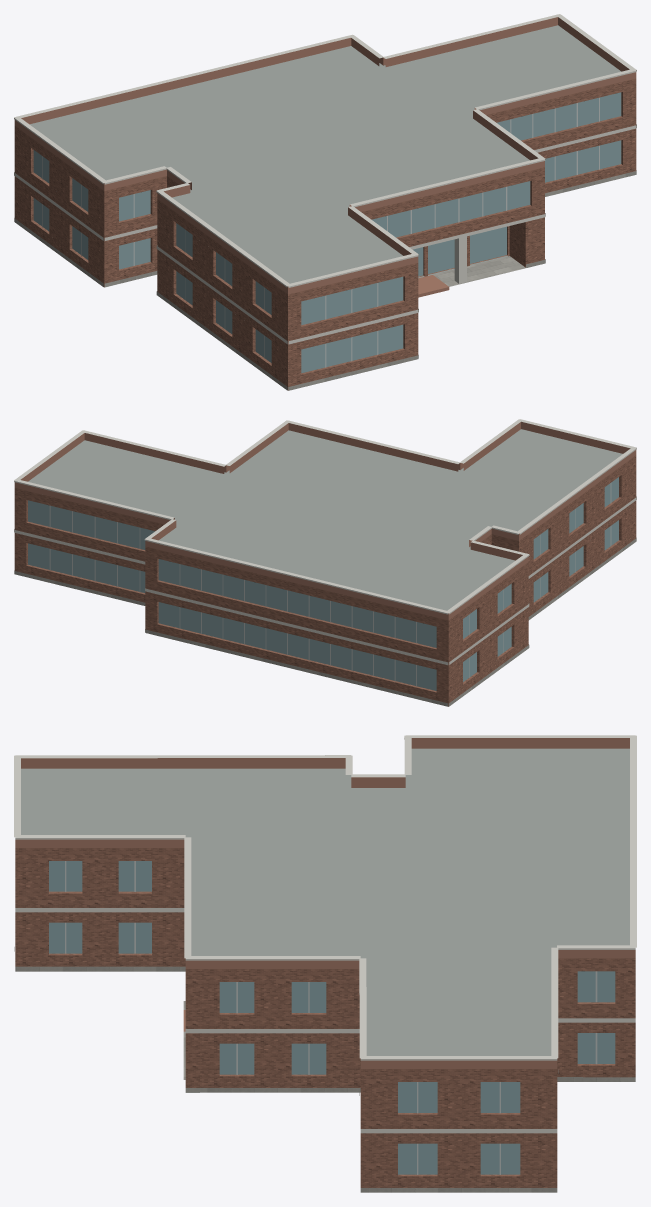
3 views of the same model, one above another, from view 1: azimuth 30°, elevation 25°; view 2: azimuth 150°, elevation 25°; view 3: azimuth 270°, elevation 25° (orthographic). The views are drawn at different scales.
Parts seen in each view (by area): view 1: w9__roof, w9__wall, w9__glass, w9__parapet, w9__trim, w9__base, w9__frame, w9__column; view 2: w9__roof, w9__wall, w9__glass, w9__parapet, w9__trim, w9__base, w9__frame; view 3: w9__roof, w9__wall, w9__glass, w9__trim, w9__parapet, w9__base, w9__frame.
Part boxes in pixels (box(x1,y1,x2,y2)): w9__roof: box(30, 25, 620, 283); w9__wall: box(14, 78, 636, 390); w9__glass: box(33, 92, 621, 373); w9__parapet: box(14, 17, 636, 294); w9__trim: box(14, 14, 636, 344); w9__base: box(14, 170, 636, 390); w9__frame: box(42, 97, 599, 367); w9__column: box(454, 236, 466, 283); w9__roof: box(28, 429, 622, 610); w9__wall: box(14, 455, 636, 706); w9__glass: box(28, 477, 618, 690); w9__parapet: box(14, 421, 636, 620); w9__trim: box(14, 419, 636, 665); w9__base: box(14, 538, 636, 706); w9__frame: box(49, 483, 611, 686); w9__roof: box(21, 748, 629, 1092); w9__wall: box(15, 848, 635, 1187); w9__glass: box(49, 861, 615, 1174); w9__trim: box(14, 735, 636, 1133); w9__parapet: box(15, 738, 635, 1068); w9__base: box(14, 947, 635, 1192); w9__frame: box(65, 861, 597, 1174).
Size of the model in its own units: 39.36 by 7.8 by 32.01.
Materials: 10 (2 with a texture image).
